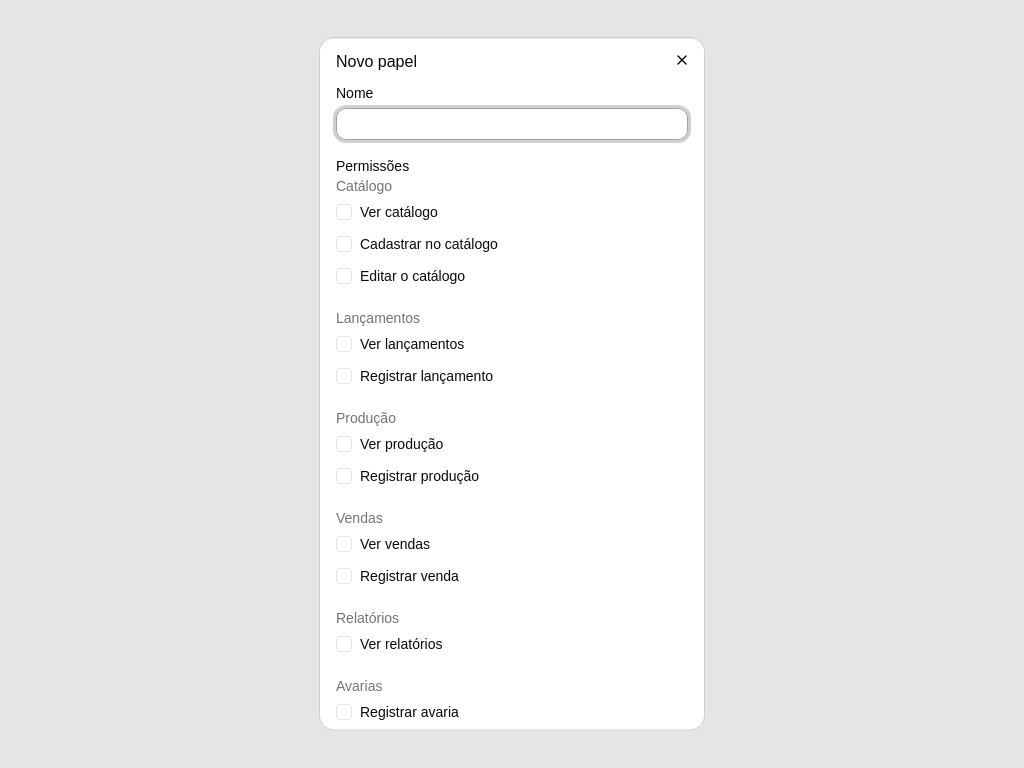
it: RoleDialog › says the name is taken, in Portuguese, and keeps the dialog open
Type "Gerente" into the field labelled "Nome" at (512,124), box [336,108,688,140]
(page scrolled)
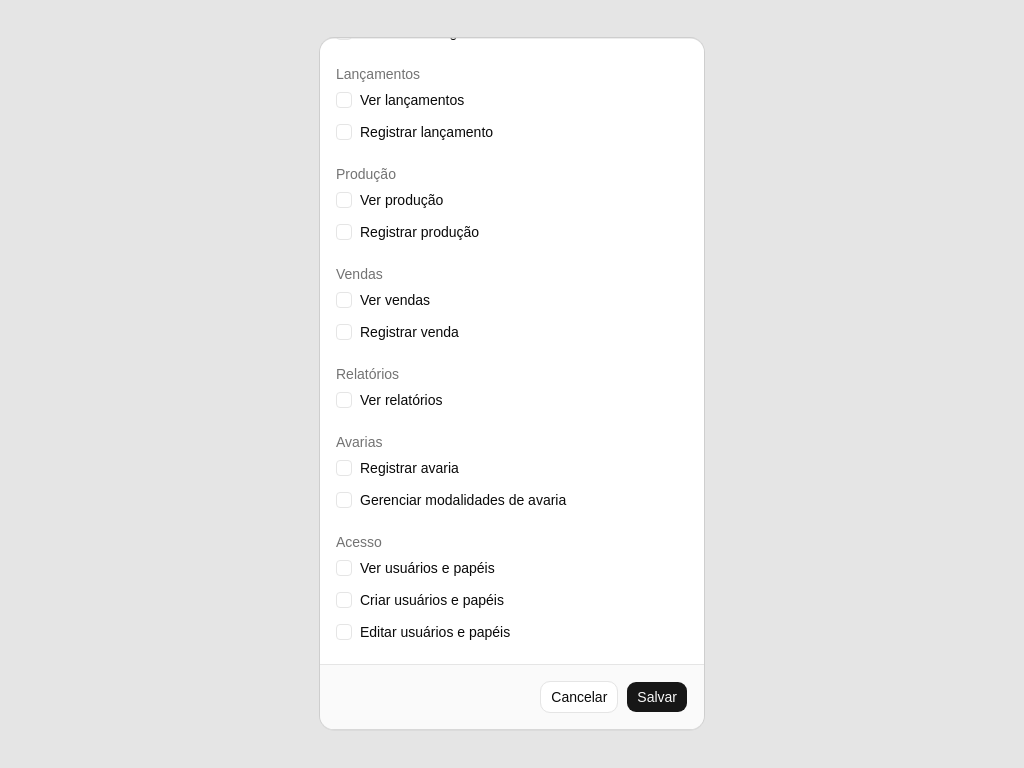
Click the checkbox named "Ver usuários e papéis" next to "Ver usuários e papéis" at (344,568), box [336,560,352,576]
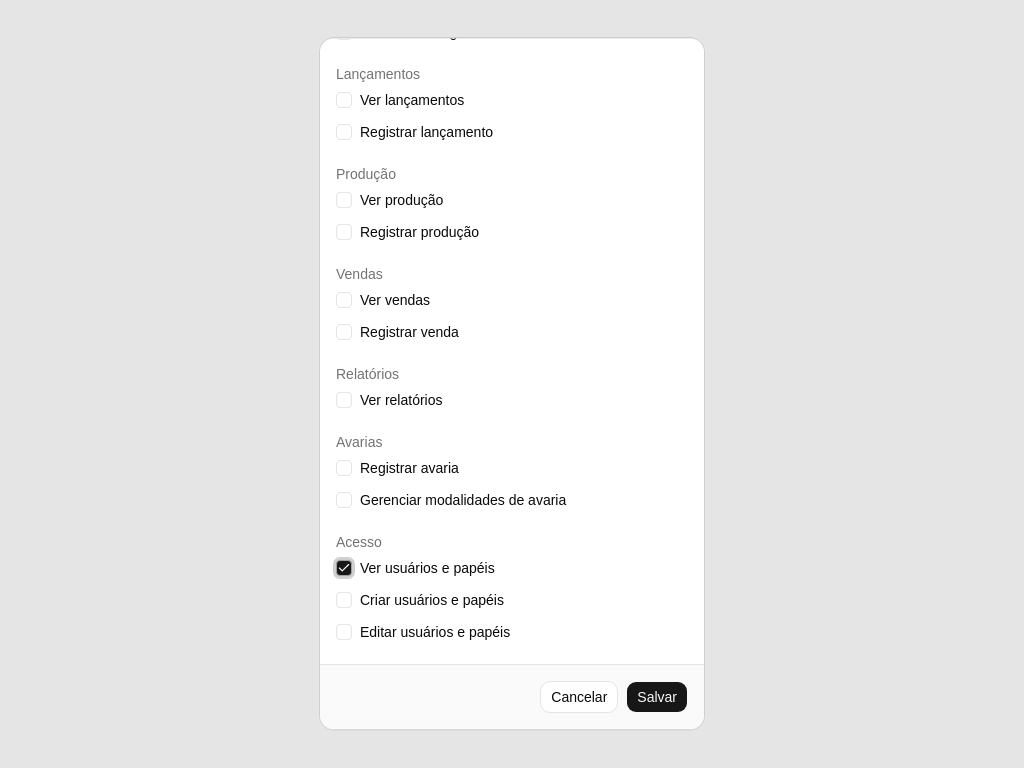
Click the button "Salvar" at (657,697), box [626,681,688,713]
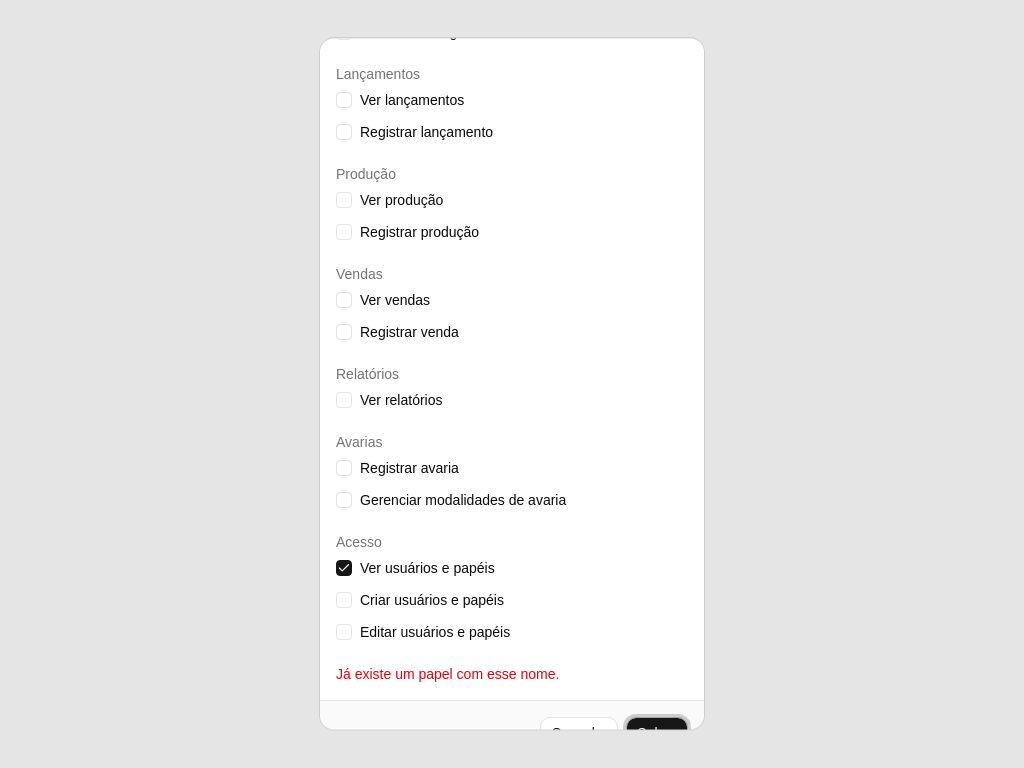
Expected: the message reads "Já existe um papel com esse nome.", [336,666,559,682]
